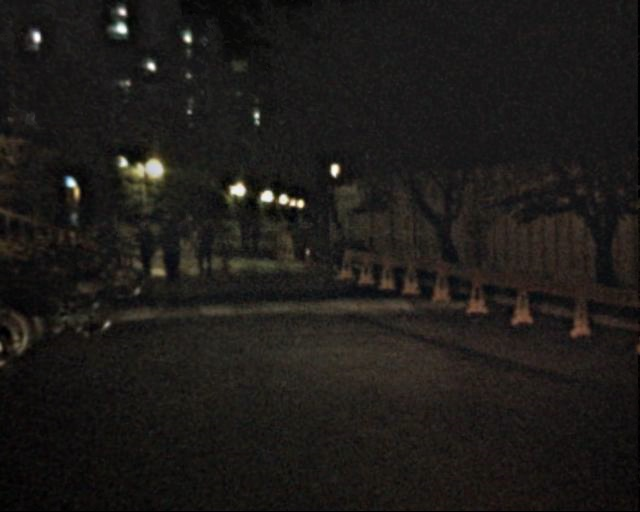person: (157, 210, 187, 282), (132, 212, 159, 278), (102, 212, 127, 272), (192, 220, 217, 280), (325, 221, 349, 280), (180, 210, 201, 261), (236, 214, 252, 254), (247, 217, 261, 252)
